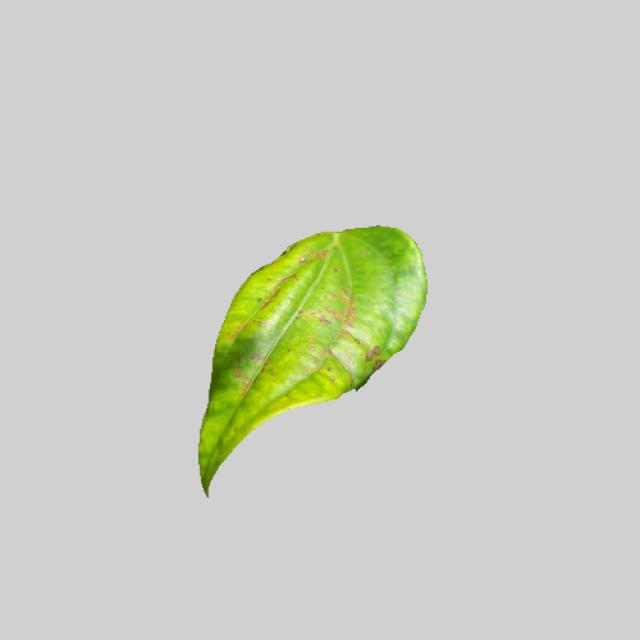yellow-mottle-virus: (189, 222, 429, 500)
